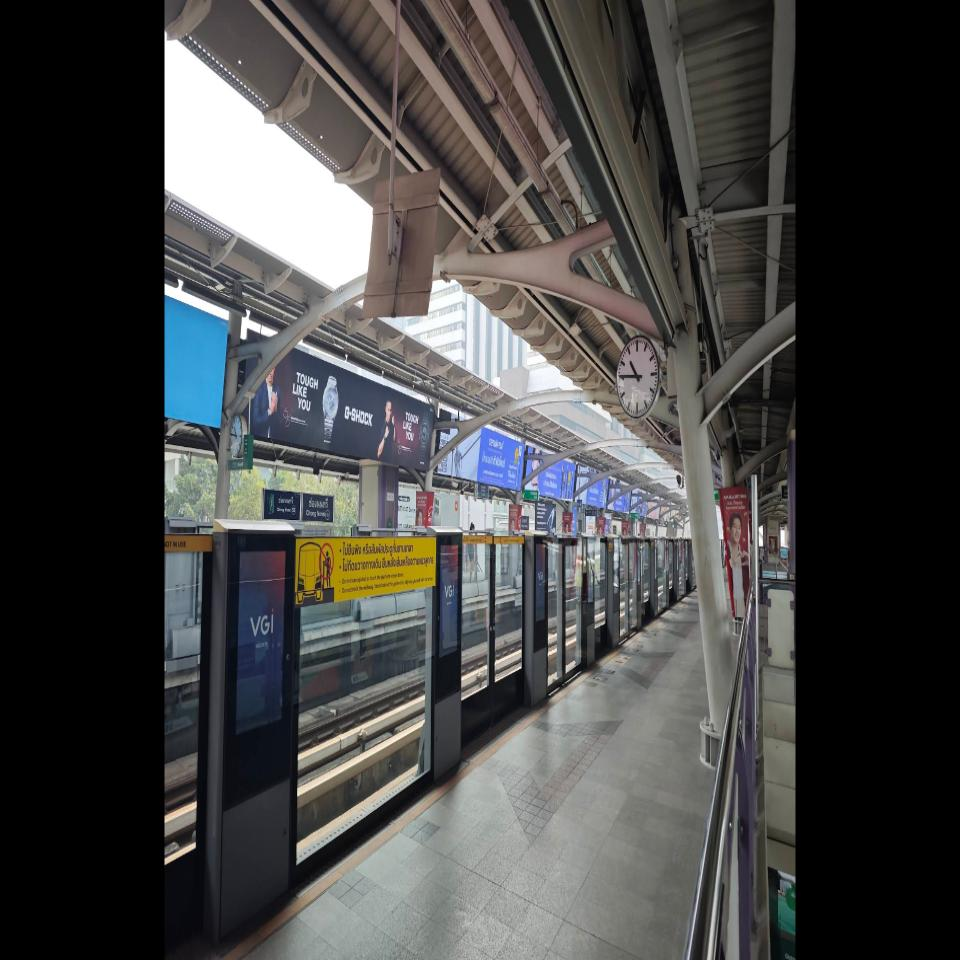Chong Nonsi: (264, 488, 301, 523), (301, 492, 335, 524)
